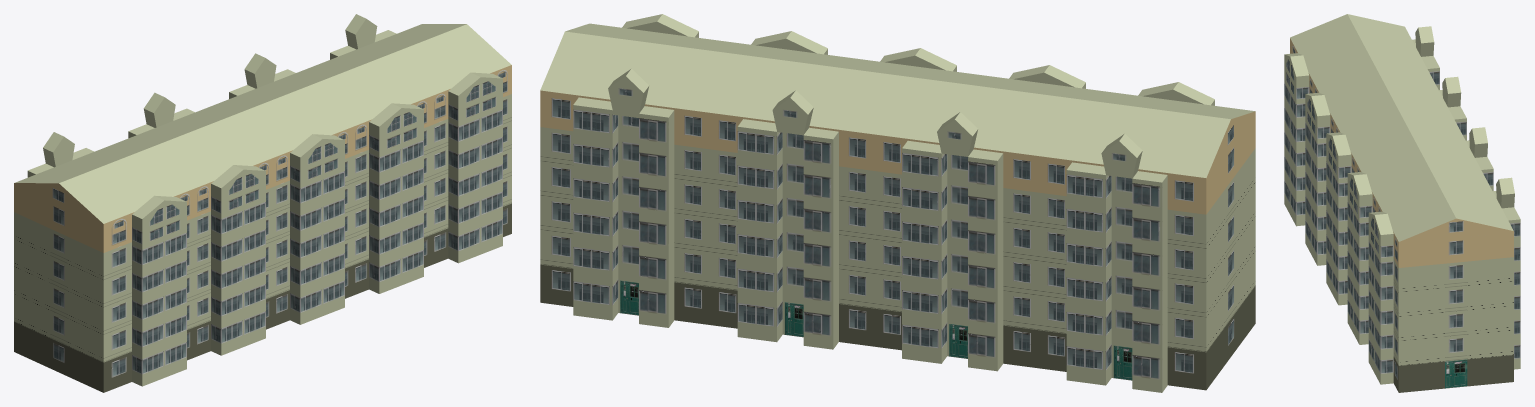
The picture shows the model from 3 angles, left to right: view 1: azimuth 30°, elevation 25°; view 2: azimuth 150°, elevation 25°; view 3: azimuth 270°, elevation 25°; orthographic projection. The views are drawn at different scales.
Parts seen in each view (by area): view 1: 053204055007G001; view 2: 053204055007G001; view 3: 053204055007G001.
Boxes of the visible parts, x1,y1,x2,y2 form: 053204055007G001: (14,14,511,392); 053204055007G001: (540,14,1255,392); 053204055007G001: (1284,14,1520,392).
Bounding box in the file's own units: 56.81 × 26.35 × 21.52.
9 materials, 9 textured.
